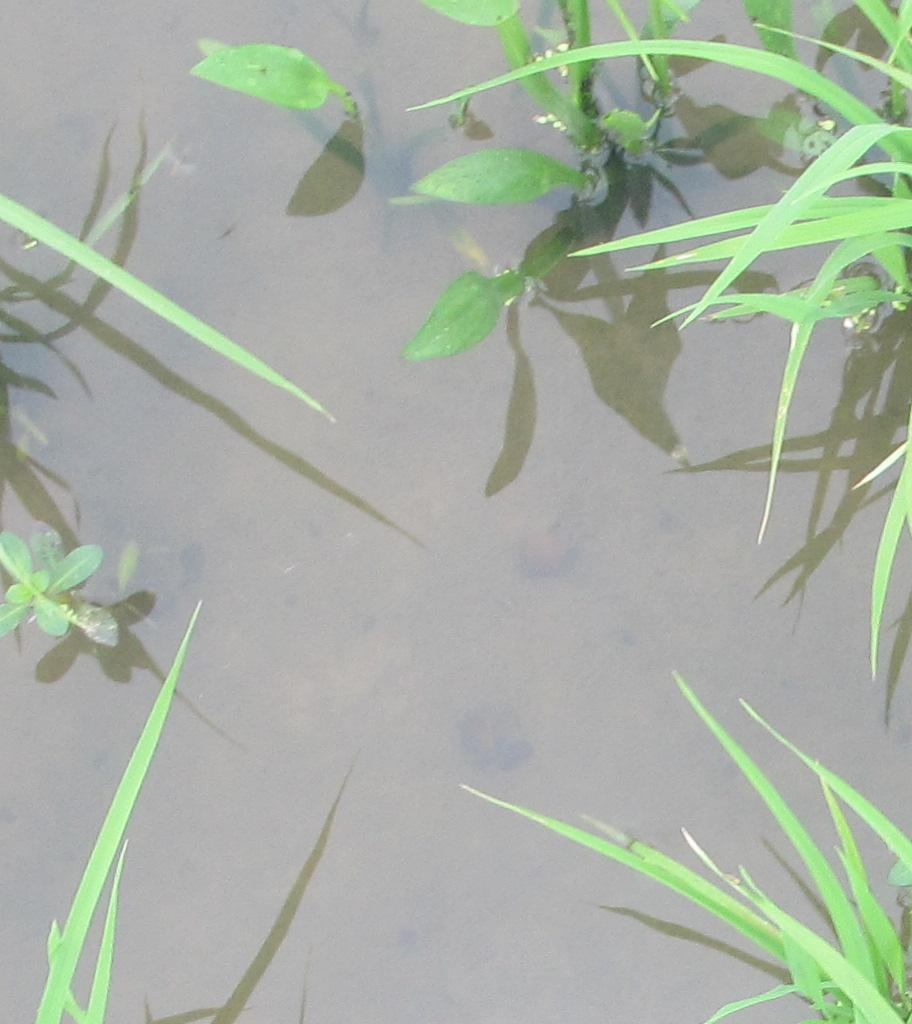Weed: (1, 525, 121, 646), (403, 144, 593, 213), (181, 39, 337, 119)
